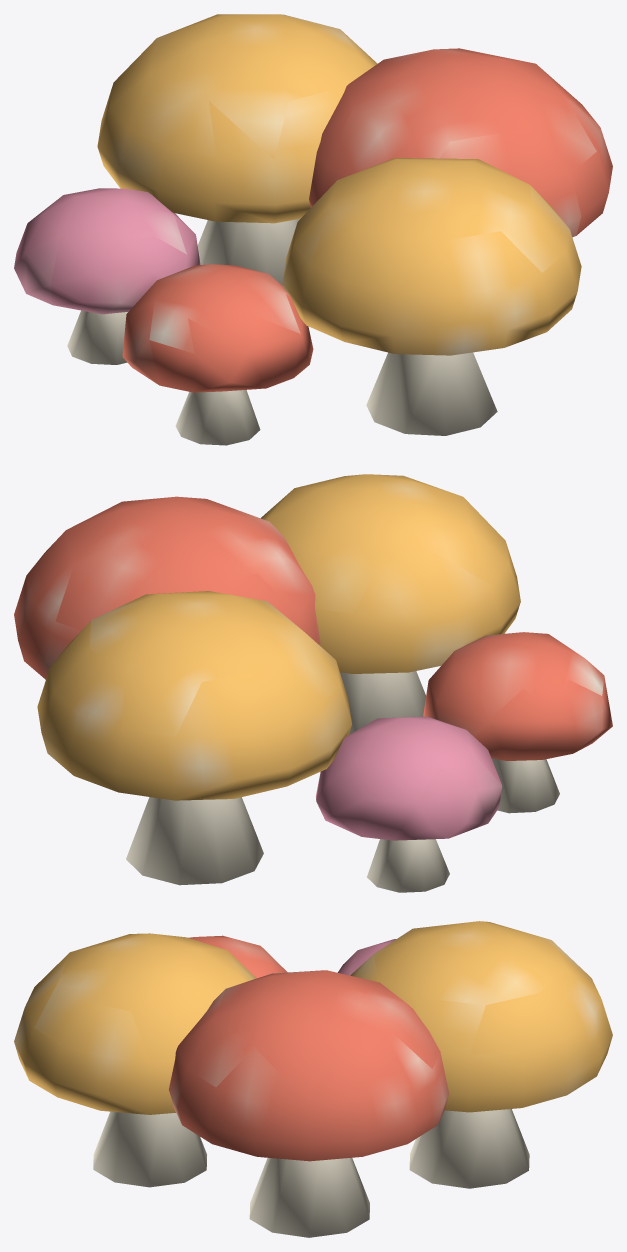
Rendered from mushroom_ring.gltf.
3 views of the same model, one above another, from view 1: azimuth 30°, elevation 25°; view 2: azimuth 150°, elevation 25°; view 3: azimuth 270°, elevation 25° (orthographic). The views are drawn at different scales.
Parts seen in each view (by area): view 1: mushroom_ring; view 2: mushroom_ring; view 3: mushroom_ring.
Boxes of the visible parts, left/top/right/bottom form: mushroom_ring: left=14, top=14, right=612, bottom=445; mushroom_ring: left=14, top=474, right=612, bottom=892; mushroom_ring: left=14, top=921, right=612, bottom=1237.
Size of the model in its own units: 0.8041 by 0.377 by 0.8991.
Materials: 1 (1 with a texture image).
